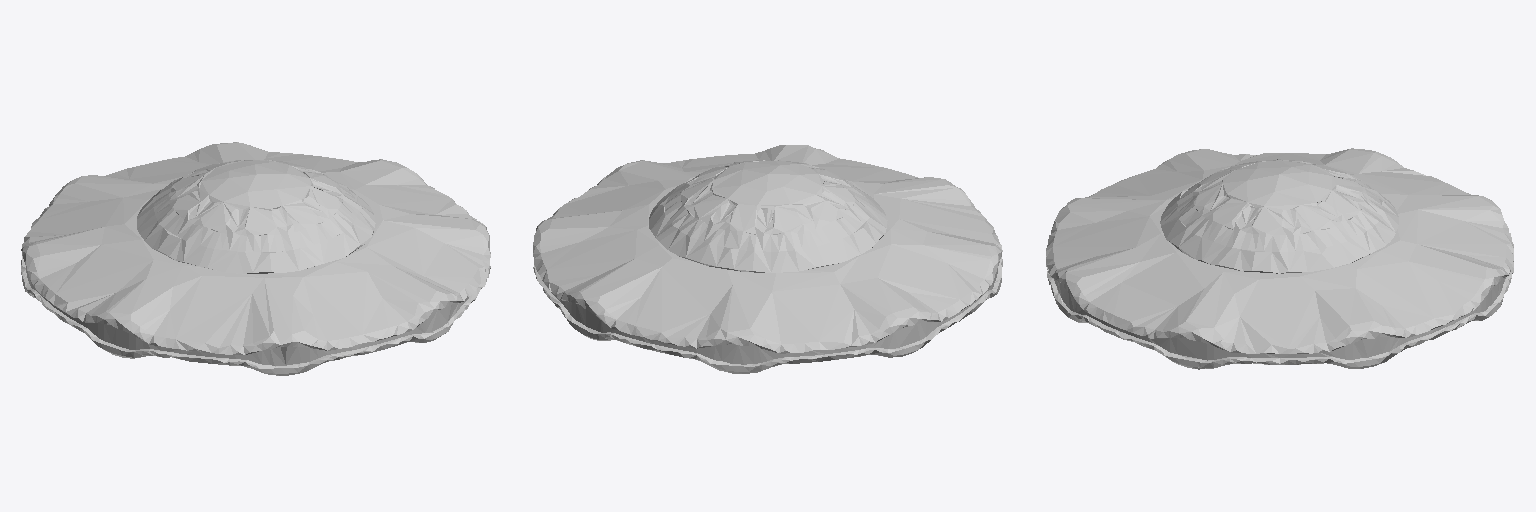
The model's file is frame_040.obj.
3 views of the same model, side by side, from view 1: azimuth 30°, elevation 25°; view 2: azimuth 150°, elevation 25°; view 3: azimuth 270°, elevation 25° (orthographic).
Parts seen in each view (by area): view 1: 13884_UFO_Saucer_v1_l2; view 2: 13884_UFO_Saucer_v1_l2; view 3: 13884_UFO_Saucer_v1_l2.
Boxes of the visible parts, box(x1,y1,x2,y2) form: 13884_UFO_Saucer_v1_l2: box(21, 142, 490, 375); 13884_UFO_Saucer_v1_l2: box(533, 145, 1002, 373); 13884_UFO_Saucer_v1_l2: box(1046, 148, 1513, 369).
Bounding box in the file's own units: 12.69 × 4.88 × 12.7.